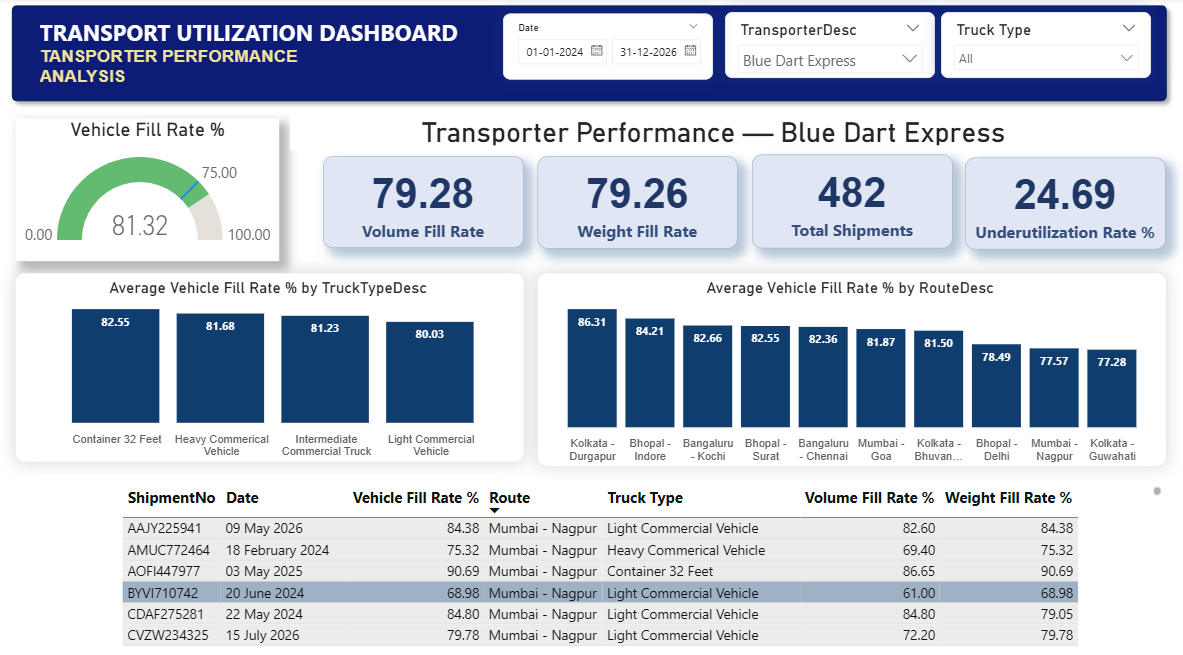

What the dashboard file says about the page in this screenshot:
{"tool":"powerbi","page":{"name":"TransporterAnalysisPage","canvas":[1280,720],"ordinal":2},"visuals":[{"type":"shape","box":[4.9,0,1264.6,121.4],"z":0},{"type":"gauge","title":" Vehicle Fill Rate %","fields":{"Y":["FactShipment.Average Vehicle Fill Rate %"]},"box":[17.8,131.2,285,153.8],"z":1000},{"type":"card","fields":{"Values":["FactShipment.Average Volume Fill Rate %"]},"box":[350.4,172.2,216.7,99.2],"z":2000},{"type":"card","fields":{"Values":["FactShipment.Average Weight Fill Rate %"]},"box":[581.7,171.4,216,100],"z":3000},{"type":"card","fields":{"Values":["FactShipment.Total Shipments"]},"box":[812.2,170.1,216.7,101.3],"z":4000},{"type":"card","fields":{"Values":["FactShipment.Underutilization Rate %"]},"box":[1043,173.8,216.7,99.2],"z":5000},{"type":"slicer","fields":{"Values":["DimTransporter.TransporterDesc"]},"box":[783.7,16.2,226.7,71],"z":6000},{"type":"slicer","fields":{"Values":["DimDate.Date"]},"box":[544.1,17.8,226.7,71],"z":7000},{"type":"slicer","fields":{"Values":["DimTruckType.TruckTypeDesc"]},"box":[1016.9,16.2,226.7,71],"z":8000},{"type":"textbox","box":[38.9,16.2,505.2,105.2],"z":9000},{"type":"lineClusteredColumnComboChart","fields":{"Category":["DimTruckType.TruckTypeDesc"],"Y":["FactShipment.Average Vehicle Fill Rate %"]},"box":[17.8,297.9,548.9,204],"z":11000},{"type":"lineClusteredColumnComboChart","fields":{"Y":["FactShipment.Average Vehicle Fill Rate %"],"Category":["DimRoute.RouteDesc"]},"box":[581.3,297.9,678.5,208.9],"z":12000},{"type":"tableEx","fields":{"Values":["DimShipment.ShipmentNo","DimDate.Date","Sum(FactShipment.Vehicle Fill Rate %)","DimRoute.RouteDesc","DimTruckType.TruckTypeDesc","Avg(FactShipment.Volume Fill Rate %)","Avg(FactShipment.Weight Fill Rate %)"]},"box":[127.9,523,1131.8,181.4],"z":13000},{"type":"card","fields":{"Values":["FactShipment.Transporter Page Title"]},"box":[314.1,121.4,913.2,43.7],"z":14000}]}

Visuals, with their boxes in screenshot pixels (x1, y1, x2, y2), scaled from the page's 1280x720 canvas onto the 1183x655 screenshot:
shape: (5,0,1173,110)
" Vehicle Fill Rate %" gauge: (16,119,280,259)
card - FactShipment.Average Volume Fill Rate %: (324,157,524,247)
card - FactShipment.Average Weight Fill Rate %: (538,156,737,247)
card - FactShipment.Total Shipments: (751,155,951,247)
card - FactShipment.Underutilization Rate %: (964,158,1164,248)
slicer - DimTransporter.TransporterDesc: (724,15,934,79)
slicer - DimDate.Date: (503,16,712,81)
slicer - DimTruckType.TruckTypeDesc: (940,15,1149,79)
textbox: (36,15,503,110)
lineClusteredColumnComboChart - DimTruckType.TruckTypeDesc x FactShipment.Average Vehicle Fill Rate %: (16,271,524,457)
lineClusteredColumnComboChart - FactShipment.Average Vehicle Fill Rate % x DimRoute.RouteDesc: (537,271,1164,461)
tableEx - DimShipment.ShipmentNo x DimDate.Date: (118,476,1164,641)
card - FactShipment.Transporter Page Title: (290,110,1134,150)
